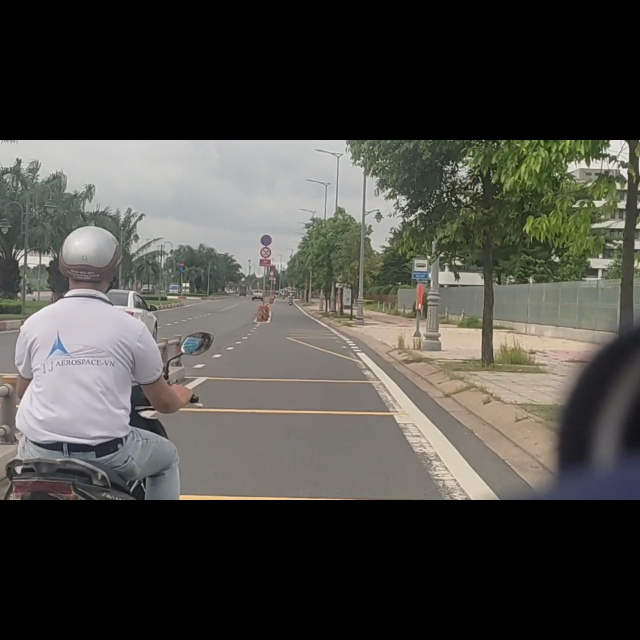bien_cam: (413, 210, 431, 251), (259, 167, 273, 190), (259, 188, 272, 211)
